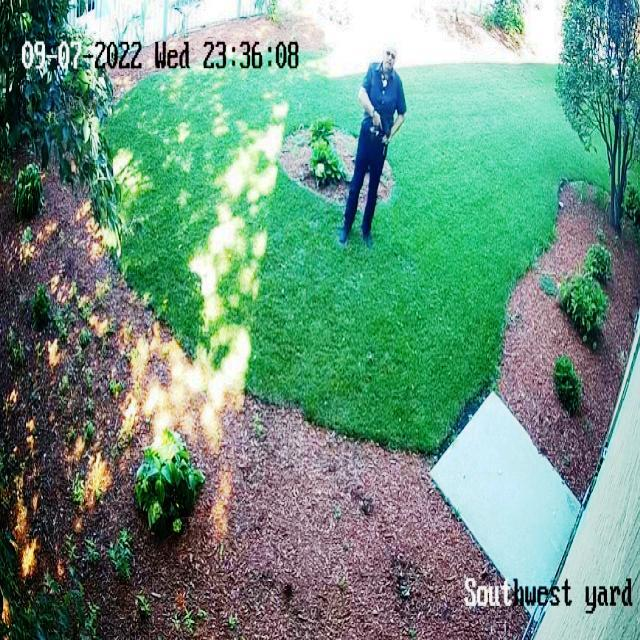Gun: (368, 111, 394, 142)
